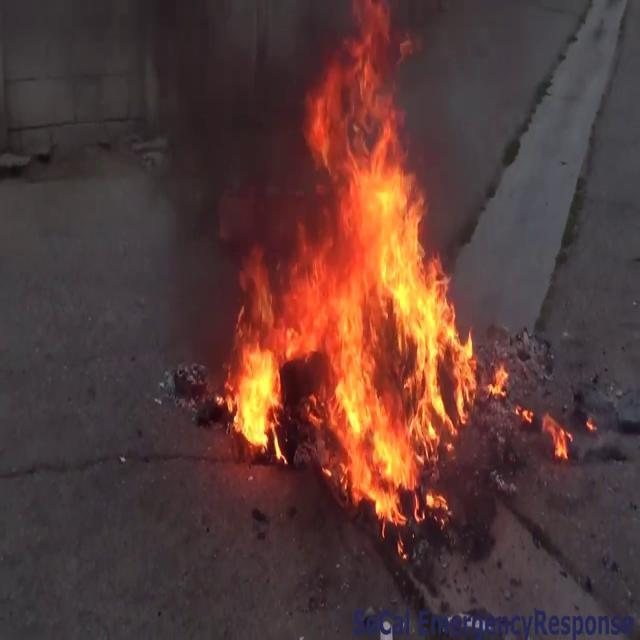Fire: (218, 8, 496, 516)
